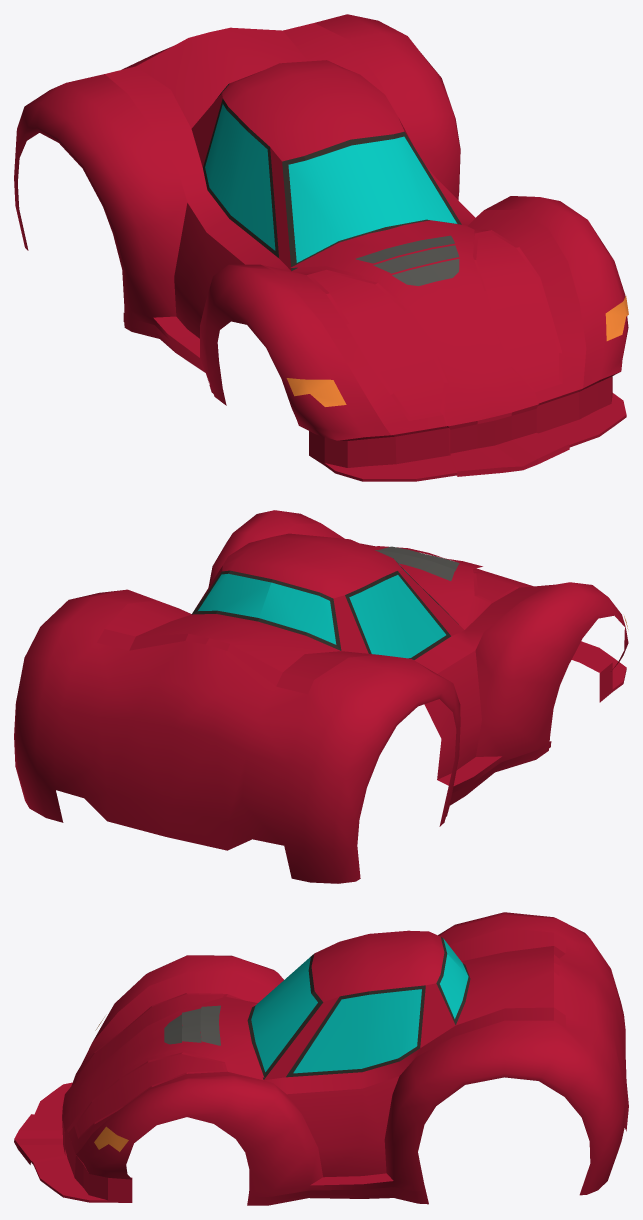
Rendered from LuxCasing00C02.gltf.
The picture shows the model from 3 angles, top to bottom: view 1: azimuth 30°, elevation 25°; view 2: azimuth 150°, elevation 25°; view 3: azimuth 270°, elevation 25°; orthographic projection. The views are drawn at different scales.
Parts seen in each view (by area): view 1: LuxCasing00C02; view 2: LuxCasing00C02; view 3: LuxCasing00C02.
Boxes of the visible parts, x1,y1,x2,y2 form: LuxCasing00C02: (14, 14, 628, 481); LuxCasing00C02: (14, 510, 628, 883); LuxCasing00C02: (14, 912, 628, 1205).
Size of the model in its own units: 0.2129 by 0.129 by 0.3654.
